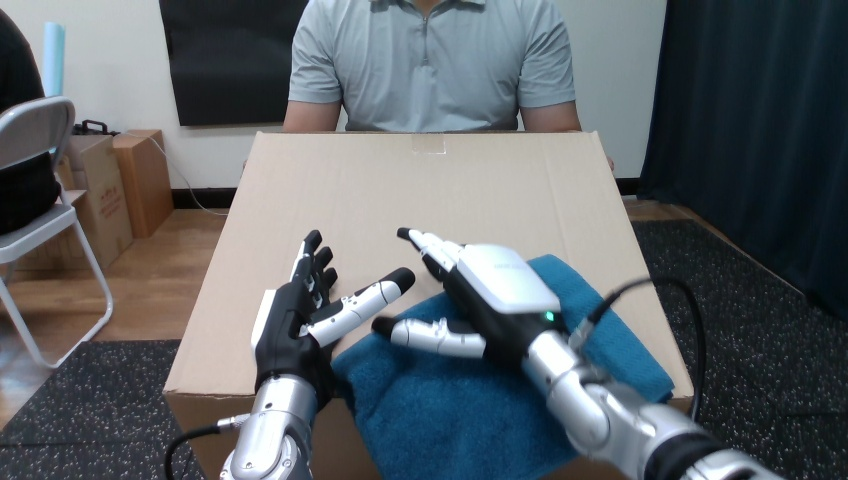left robot arm: (372, 227, 780, 479)
left robot hand: (372, 227, 780, 479)
right robot arm: (372, 227, 780, 479)
right robot hand: (372, 227, 780, 479)
